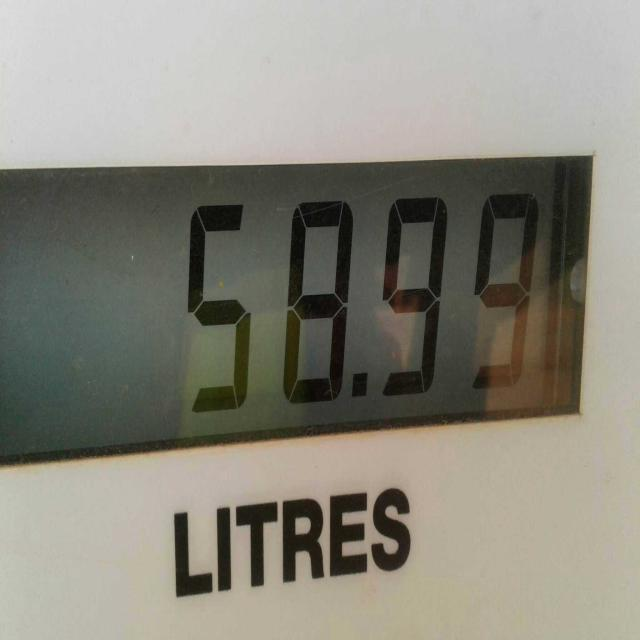.: (350, 371, 370, 402)
5: (188, 203, 255, 418)
8: (279, 207, 352, 408)
9: (381, 193, 446, 399), (470, 193, 534, 389)
